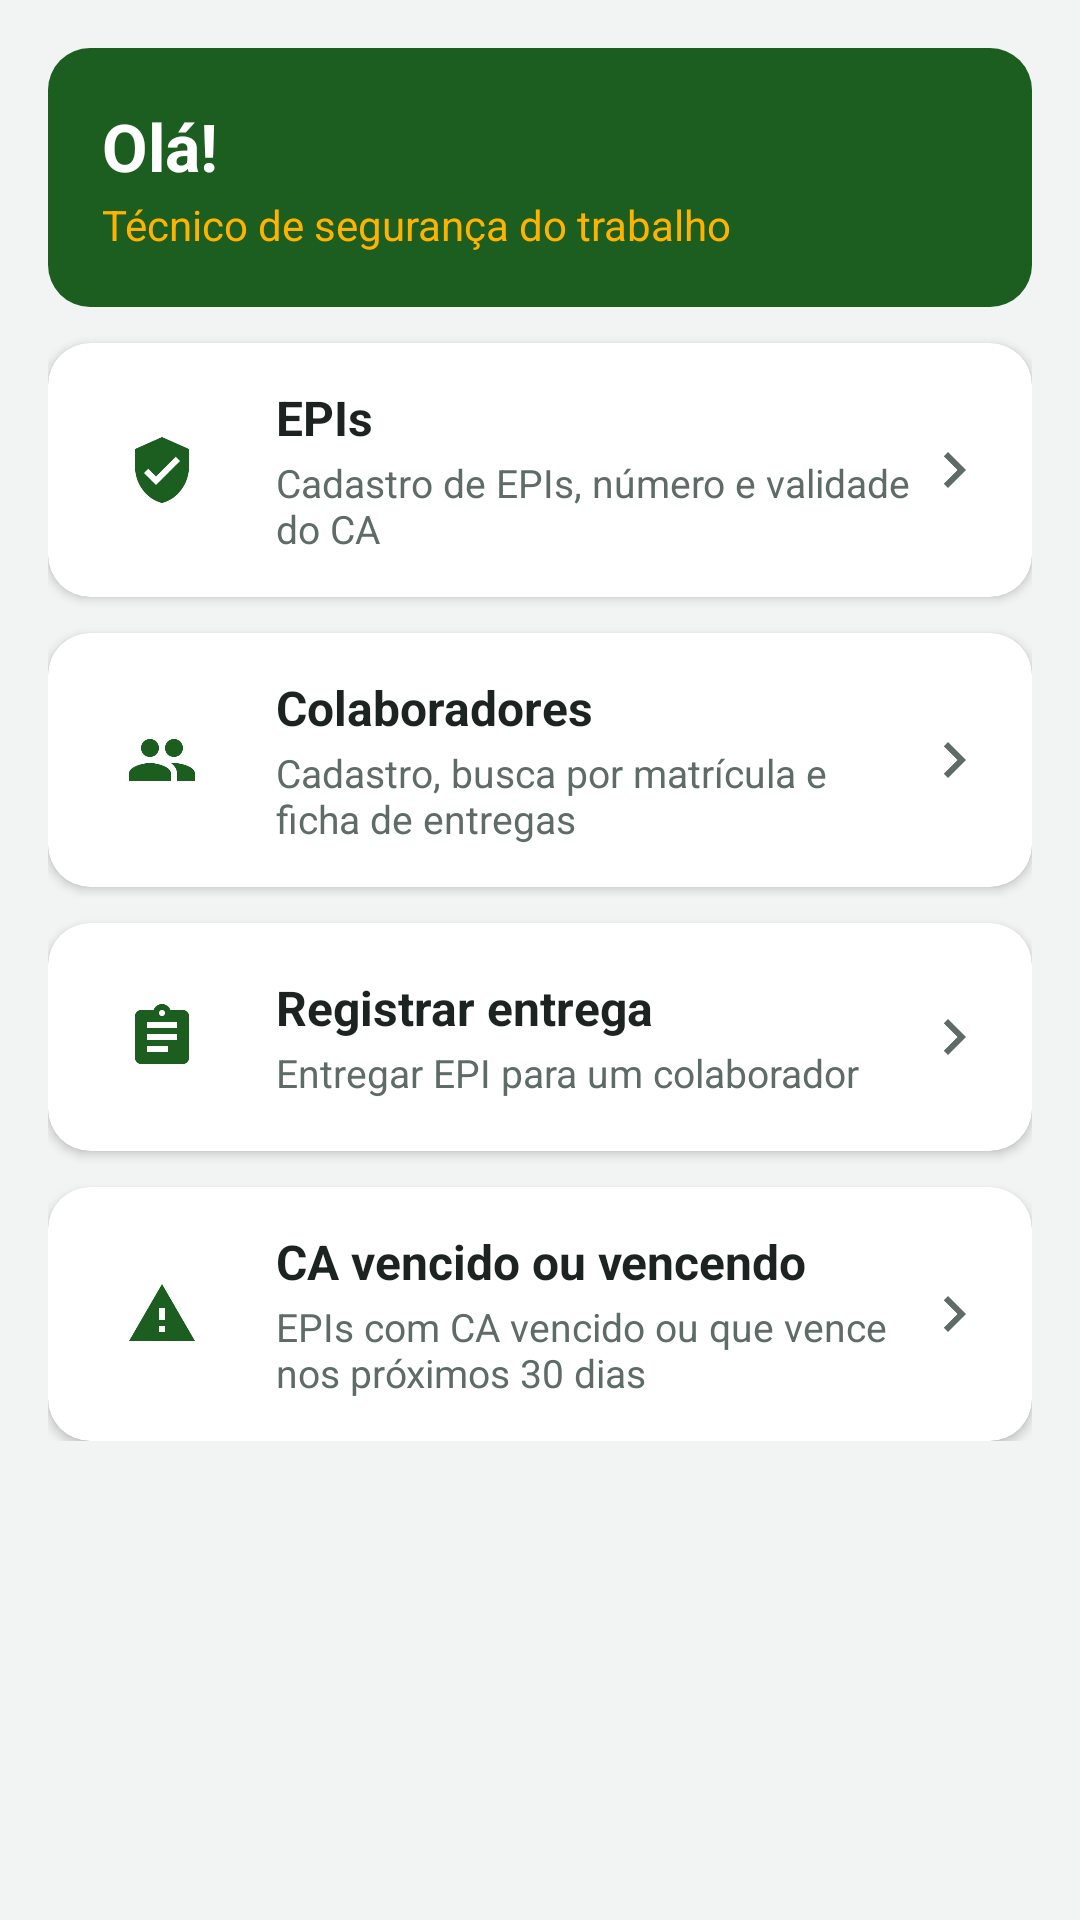

Locate icon controls on the screen. Image size 1080 x 1920, boxes as {"x1": x1, "y1": y1, "x2": x2, "y2": y2}.
chevron: {"x1": 944, "y1": 452, "x2": 966, "y2": 488}, {"x1": 944, "y1": 742, "x2": 966, "y2": 778}, {"x1": 944, "y1": 1019, "x2": 966, "y2": 1055}, {"x1": 944, "y1": 1296, "x2": 966, "y2": 1332}
